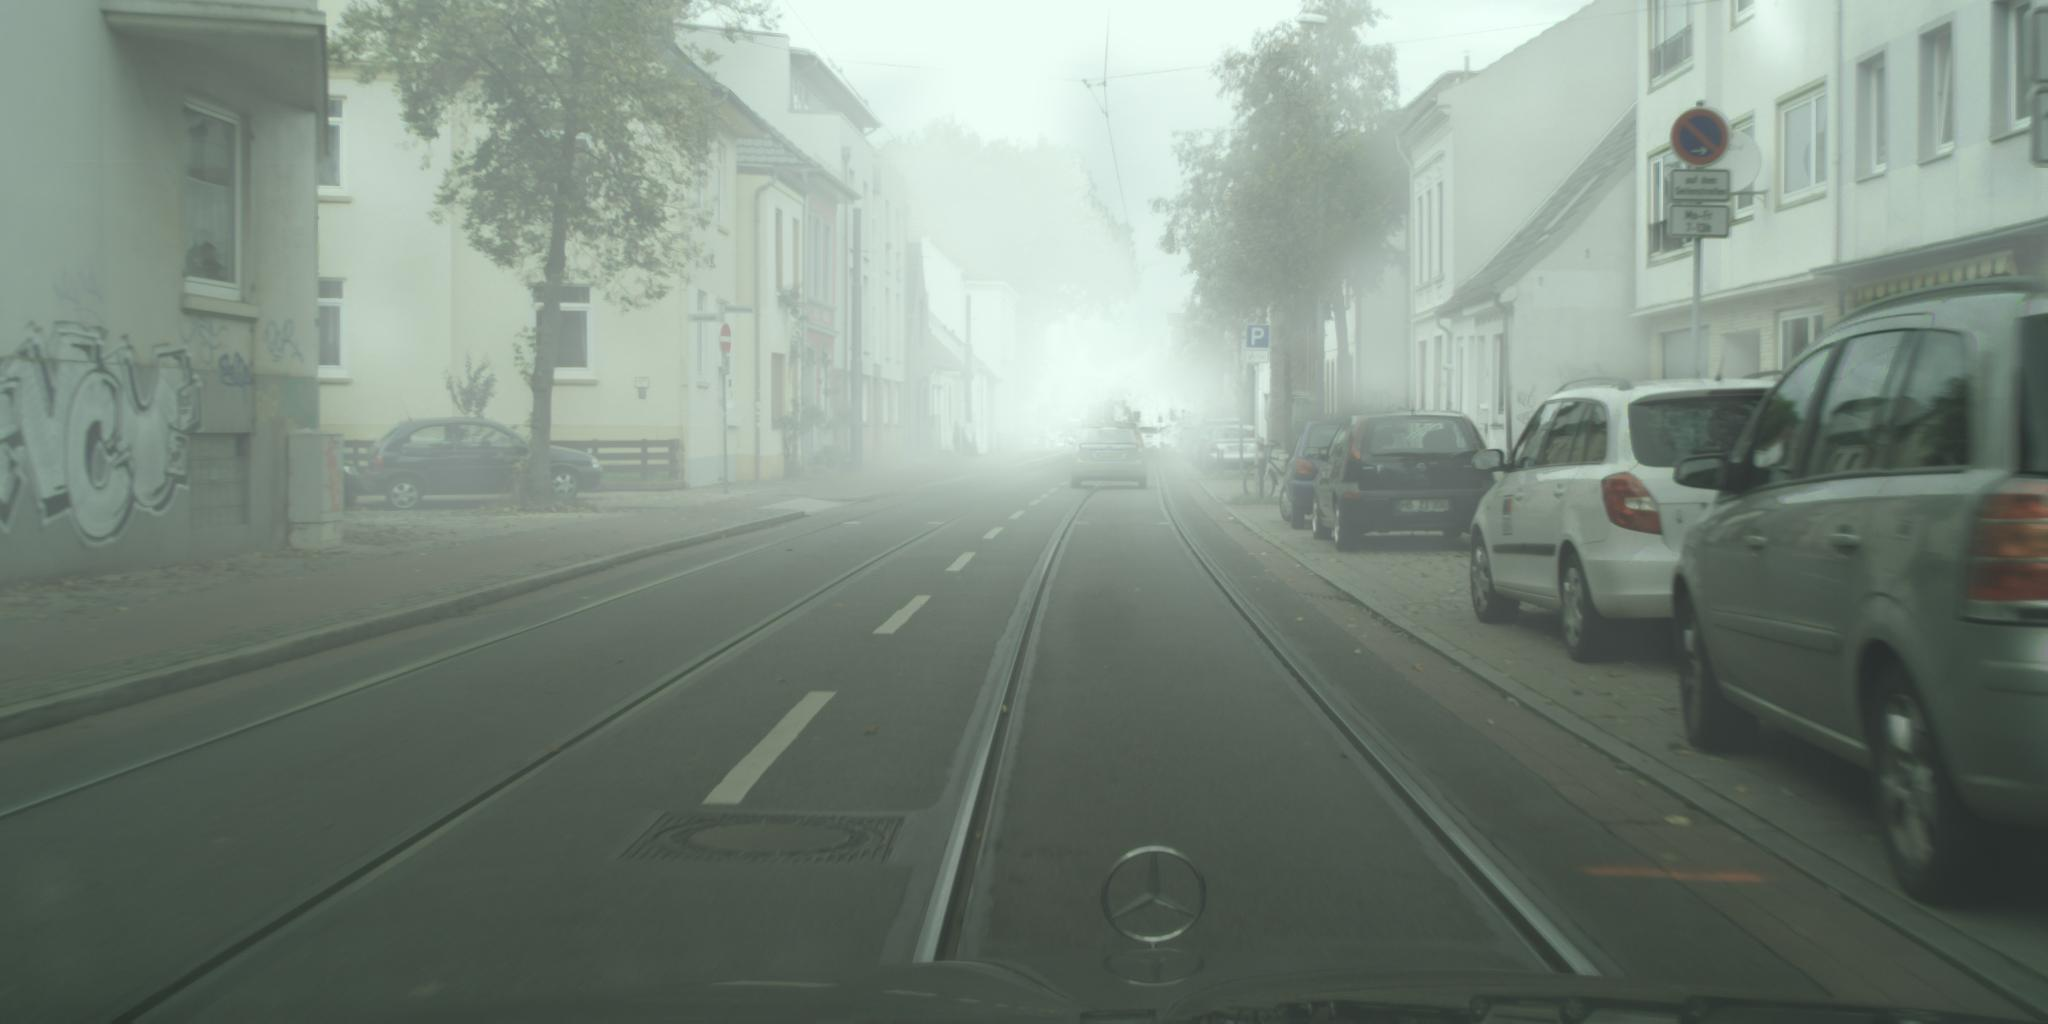bicycle: (1255, 438, 1296, 502)
car: (1671, 274, 2048, 913), (1469, 374, 1804, 664), (1304, 409, 1499, 556), (368, 418, 603, 511), (1277, 418, 1354, 532), (1070, 423, 1153, 491), (1204, 426, 1270, 475), (1196, 419, 1242, 472), (327, 461, 368, 511), (1055, 426, 1100, 451)
